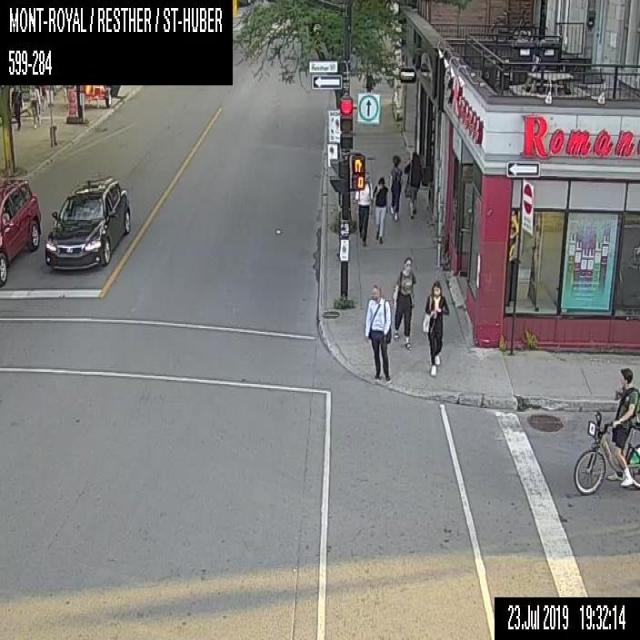construction: (68, 89, 76, 116)
cyclist: (573, 365, 639, 495)
pedestrian: (421, 280, 448, 376), (364, 284, 390, 379), (391, 256, 416, 349), (355, 174, 372, 246), (372, 174, 389, 246), (403, 150, 420, 220), (388, 152, 402, 220), (11, 84, 22, 129), (29, 85, 40, 128)
vehicle: (44, 176, 130, 269), (0, 178, 41, 282)
